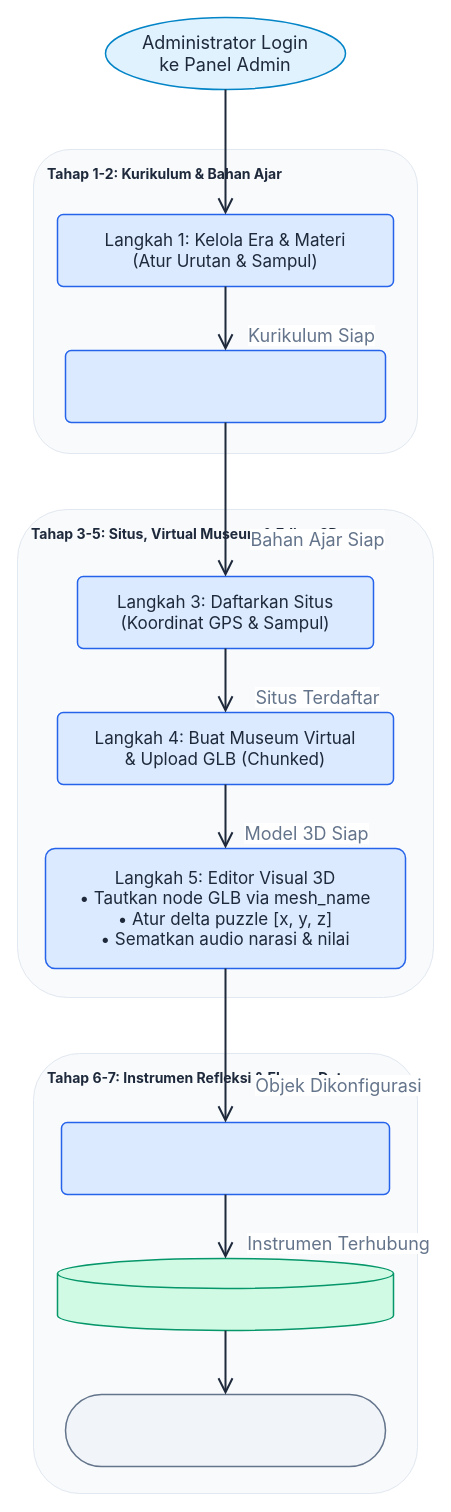
This 451x1512 diagram has some shape labels left out. The centre of each missing label's shape, as x and y in pixels:
"Langkah 2: Upload PDF E-Book & Buat Soal Pre/Post-Test" goes at pixel 225 386.
"Langkah 6: Bank Soal Refleksi (1 Soal per Nilai Karakter)" goes at pixel 225 1158.
"Langkah 7: Ekspor Data Riset (CSV Runtime Event & Refleksi)" goes at pixel 225 1294.
"Selesai: Konten & Instrumen Siap Diuji Lapangan (TKT 6)" goes at pixel 225 1430.
